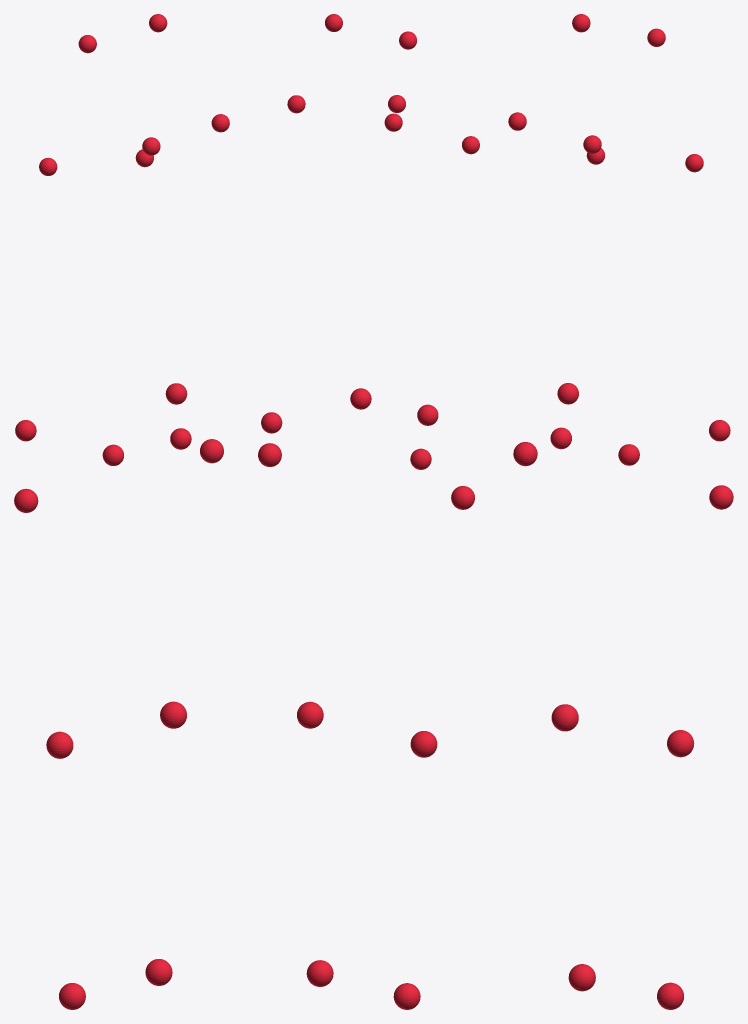
The model's file is SkeletonPoints5.glb.
3 views of the same model, side by side, from view 1: azimuth 30°, elevation 25°; view 2: azimuth 150°, elevation 25°; view 3: azimuth 330°, elevation 25° (orthographic).
Visible parts, largest first — view 1: RightKnee, LeftKnee, LeftAnkle, RightAnkle; view 2: LeftAnkle, LeftKnee, RightKnee, RightAnkle; view 3: RightKnee, RightAnkle, LeftKnee, LeftAnkle.
Part boxes in pixels (left/top/right/bottom): RightKnee: left=46, top=731, right=73, bottom=758; LeftKnee: left=160, top=701, right=186, bottom=728; LeftAnkle: left=145, top=959, right=172, bottom=985; RightAnkle: left=59, top=983, right=85, bottom=1009; LeftAnkle: left=306, top=960, right=333, bottom=986; LeftKnee: left=297, top=701, right=323, bottom=728; RightKnee: left=410, top=731, right=437, bottom=757; RightAnkle: left=393, top=983, right=420, bottom=1009; RightKnee: left=551, top=704, right=578, bottom=731; RightAnkle: left=568, top=964, right=595, bottom=991; LeftKnee: left=667, top=730, right=694, bottom=757; LeftAnkle: left=657, top=982, right=683, bottom=1009.
Bounding box in the file's own units: 0.7579 × 3.36 × 0.3769.
